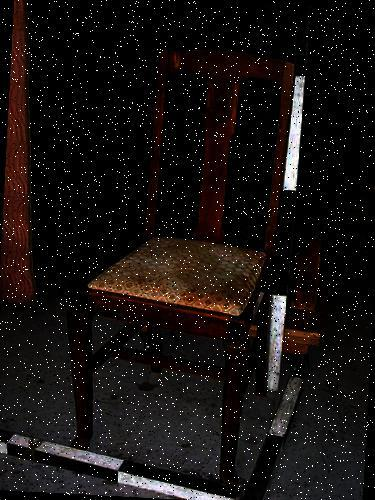Silla: (71, 45, 293, 479)
